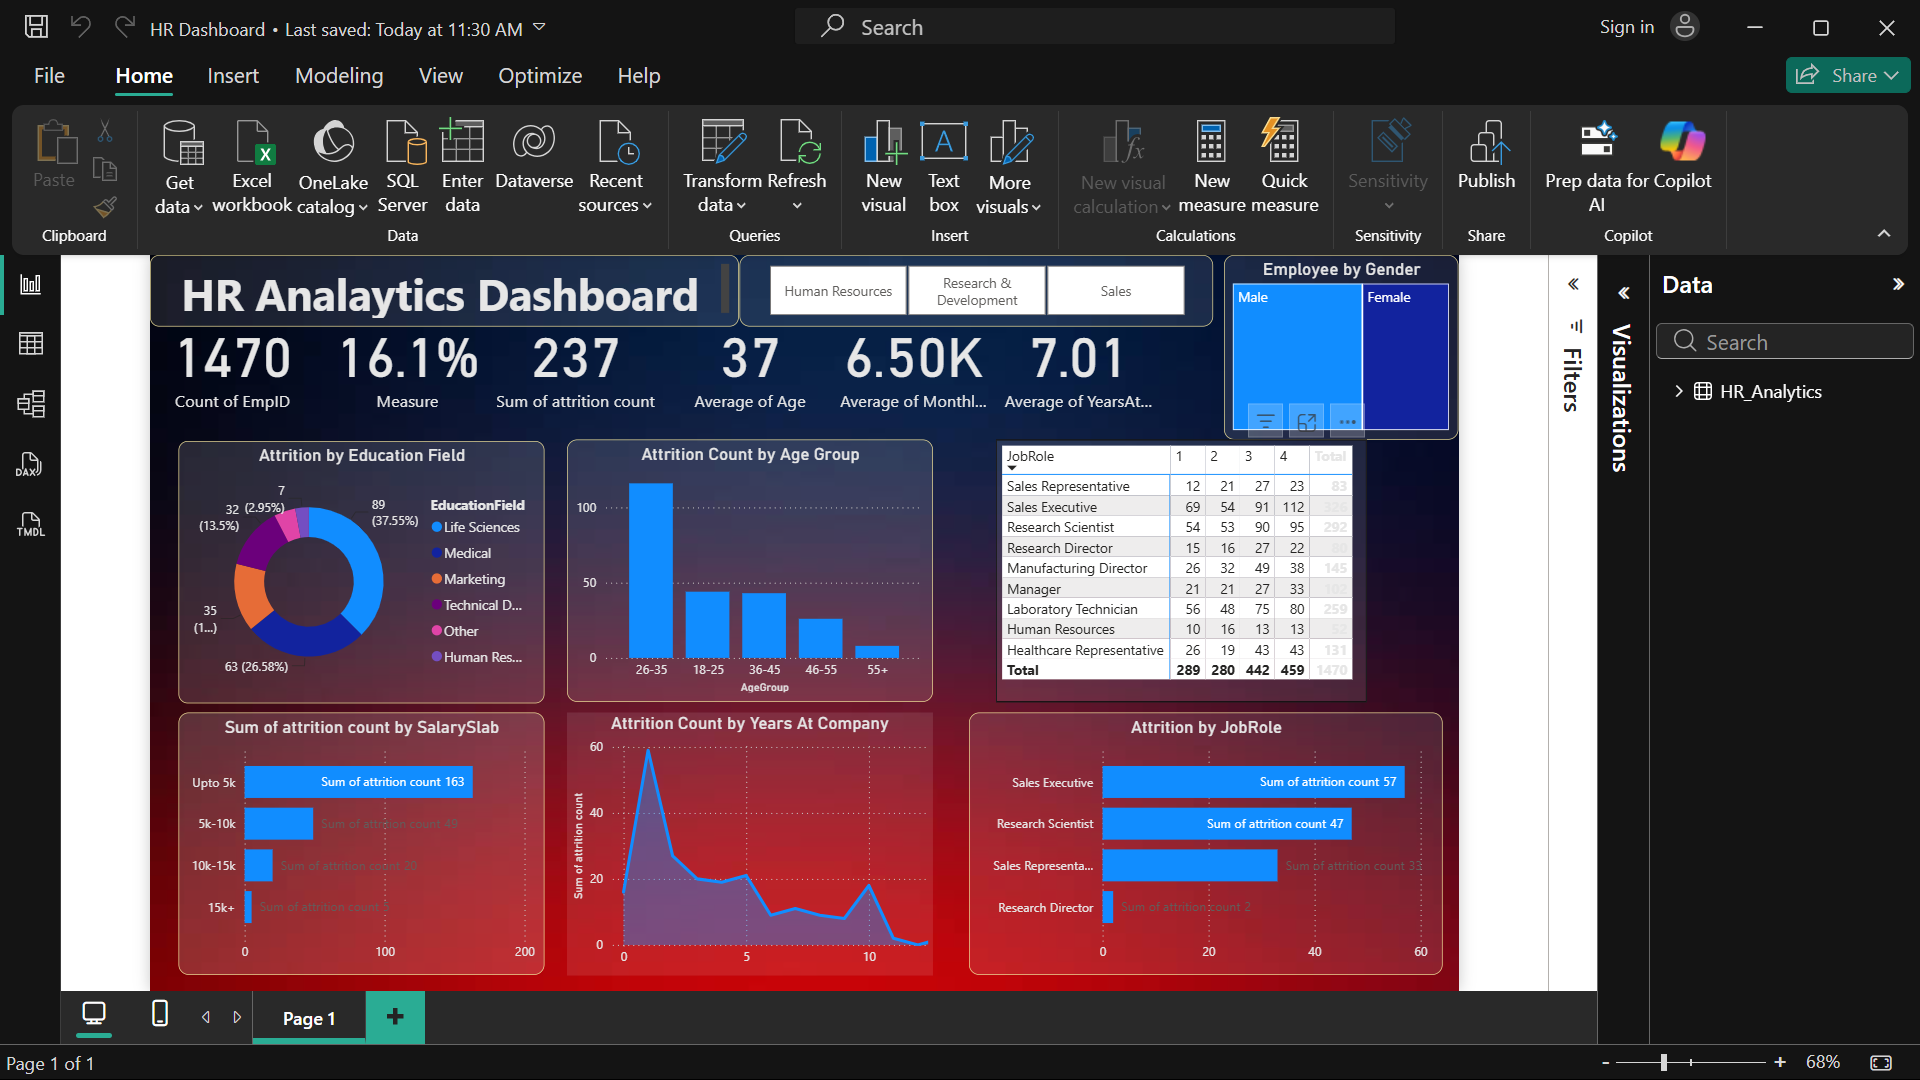

What the dashboard file says about the page in this screenshot:
{"tool":"powerbi","page":{"name":"Page 1","canvas":[1280,720],"ordinal":0},"visuals":[{"type":"card","fields":{"Values":["Count(HR_Analytics.EmpID)"]},"box":[0,50.4,161,107.4],"z":0},{"type":"card","fields":{"Values":["HR_Analytics.Measure"]},"box":[161,50.4,180.5,107.4],"z":1000},{"type":"card","fields":{"Values":["Sum(HR_Analytics.attrition count)"]},"box":[325.3,50.4,180.5,107.4],"z":2000},{"type":"card","fields":{"Values":["Avg(HR_Analytics.Age)"]},"box":[505.9,50.4,161,107.4],"z":3000},{"type":"card","fields":{"Values":["Avg(HR_Analytics.MonthlyIncome)"]},"box":[666.9,50.4,161,107.4],"z":4000},{"type":"card","fields":{"Values":["Avg(HR_Analytics.YearsAtCompany)"]},"box":[827.9,50.4,161,107.4],"z":5000},{"type":"treemap","title":"Employee by Gender","fields":{"Group":["HR_Analytics.Gender"],"Values":["Count(HR_Analytics.EmpID)"]},"box":[1050.7,0,229.3,180.5],"z":6000},{"type":"donutChart","title":"Attrition by Education  Field ","fields":{"Y":["Sum(HR_Analytics.attrition count)"],"Category":["HR_Analytics.EducationField"]},"box":[27.7,182.2,357.8,257],"z":7000},{"type":"clusteredColumnChart","title":"Attrition Count by Age Group","fields":{"Category":["HR_Analytics.AgeGroup"],"Y":["Sum(HR_Analytics.attrition count)"]},"box":[408.3,180.5,357.8,257],"z":8000},{"type":"pivotTable","fields":{"Rows":["HR_Analytics.JobRole"],"Columns":["HR_Analytics.JobSatisfaction"],"Values":["Sum(HR_Analytics.EmployeeCount)"]},"box":[827.9,180.5,362.7,257],"z":9000},{"type":"barChart","fields":{"Category":["HR_Analytics.SalarySlab"],"Y":["Sum(HR_Analytics.attrition count)"]},"box":[27.7,447.3,357.8,257],"z":10000},{"type":"stackedAreaChart","title":"Attrition Count by Years At Company","fields":{"Category":["HR_Analytics.YearsAtCompany"],"Y":["Sum(HR_Analytics.attrition count)"]},"box":[408,448,358,257],"z":11000},{"type":"barChart","title":"Attrition  by JobRole","fields":{"Category":["HR_Analytics.JobRole"],"Y":["Sum(HR_Analytics.attrition count)"]},"box":[801.9,447.3,463.6,257],"z":12000},{"type":"slicer","fields":{"Values":["HR_Analytics.Department"]},"box":[576,0,463,70],"z":13000},{"type":"textbox","box":[0,0,575.8,69.9],"z":14000}]}

Visuals, with their boxes on the page's 1280x720 design canvas (x1, y1, x2, y2). These are canvas units, not pixel positions in the 1920x1080 screenshot, which may show the page scaled, cropped or inside an application window:
card - Count(HR_Analytics.EmpID): (0,50,161,158)
card - HR_Analytics.Measure: (161,50,342,158)
card - Sum(HR_Analytics.attrition count): (325,50,506,158)
card - Avg(HR_Analytics.Age): (506,50,667,158)
card - Avg(HR_Analytics.MonthlyIncome): (667,50,828,158)
card - Avg(HR_Analytics.YearsAtCompany): (828,50,989,158)
"Employee by Gender" treemap: (1051,0,1280,180)
"Attrition by Education  Field " donutChart: (28,182,386,439)
"Attrition Count by Age Group" clusteredColumnChart: (408,180,766,438)
pivotTable - HR_Analytics.JobRole x HR_Analytics.JobSatisfaction: (828,180,1191,438)
barChart - HR_Analytics.SalarySlab x Sum(HR_Analytics.attrition count): (28,447,386,704)
"Attrition Count by Years At Company" stackedAreaChart: (408,448,766,705)
"Attrition  by JobRole" barChart: (802,447,1266,704)
slicer - HR_Analytics.Department: (576,0,1039,70)
textbox: (0,0,576,70)
